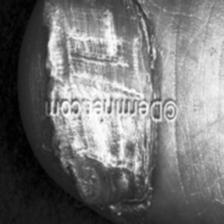Toxin: (43, 0, 158, 101), (54, 119, 158, 216)
